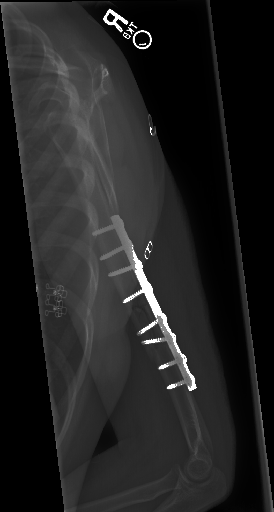implant: (93, 215, 198, 393)
